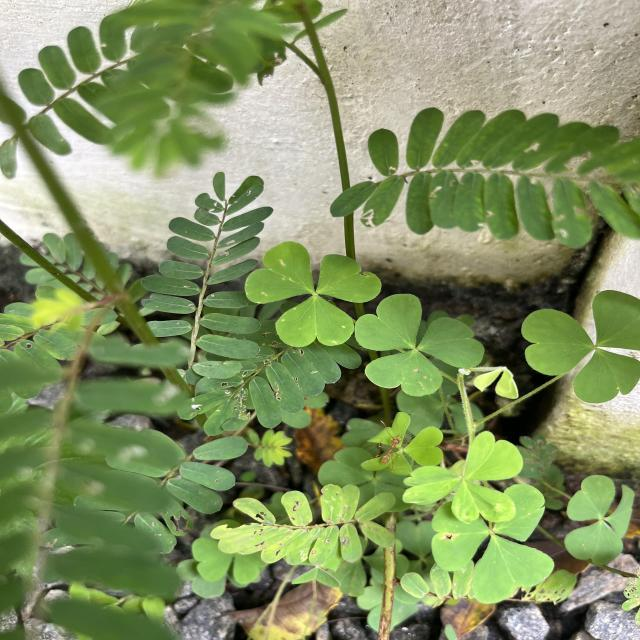Oxalis corniculata: (431, 482, 556, 606), (244, 240, 384, 348), (520, 288, 640, 406), (354, 292, 486, 398), (401, 429, 525, 524), (563, 473, 636, 567)
